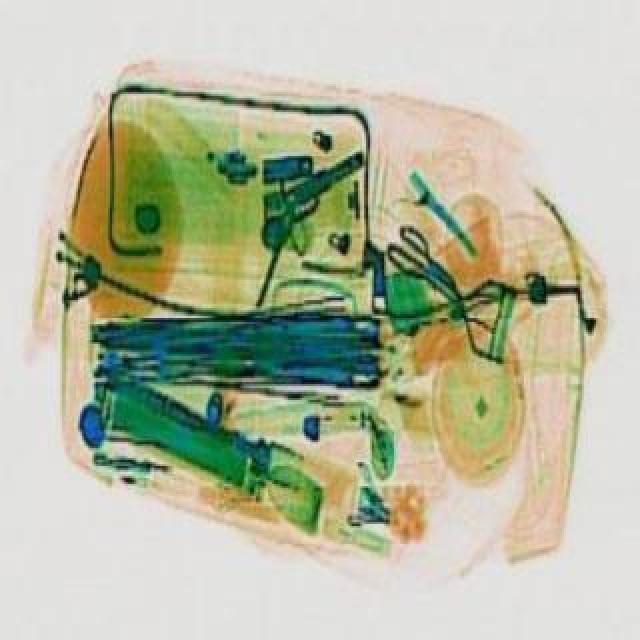pliers: (376, 214, 472, 296)
